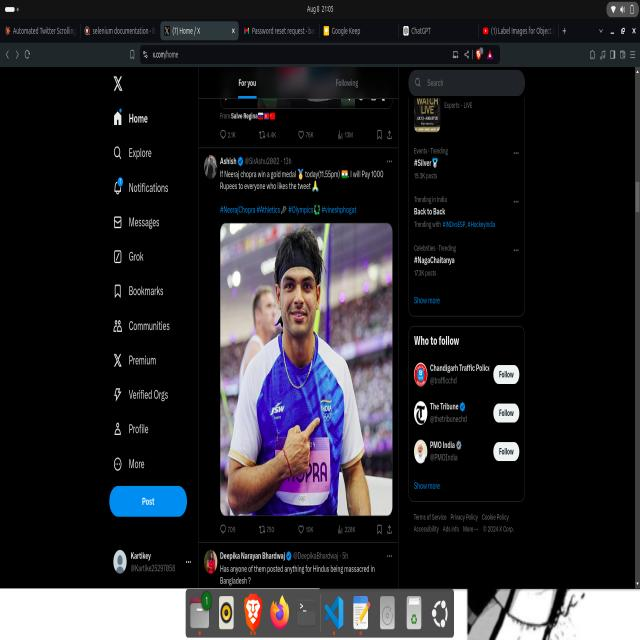Tweet-Comment_Box-: (188, 145, 406, 548)
